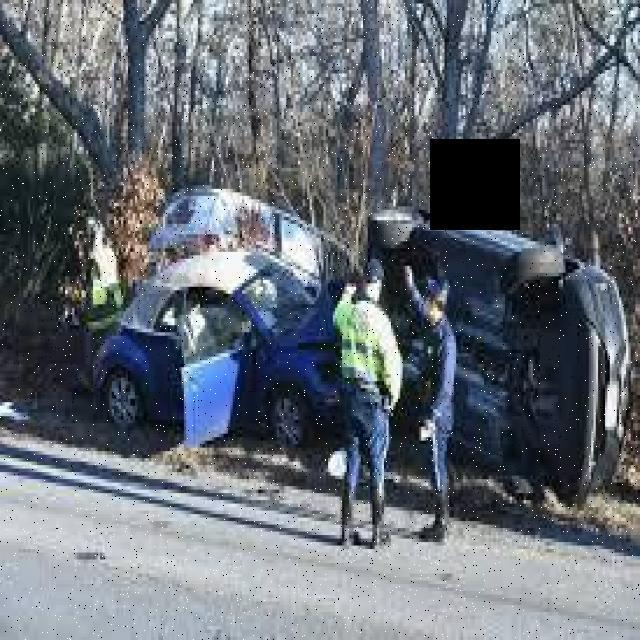multiple_accident: (80, 176, 634, 525)
